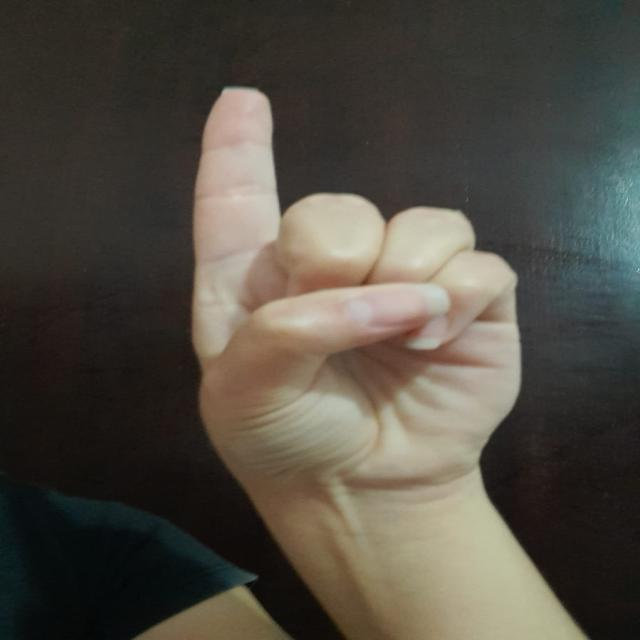D2: (167, 76, 548, 488)
